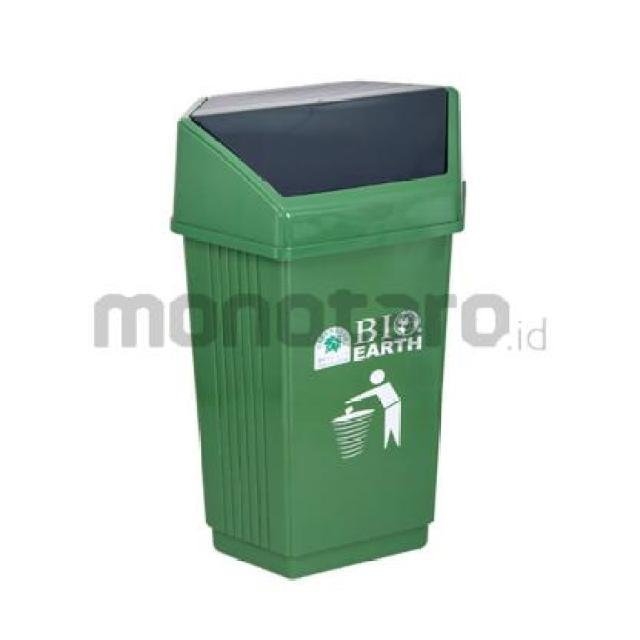garbage container: (162, 75, 470, 597)
